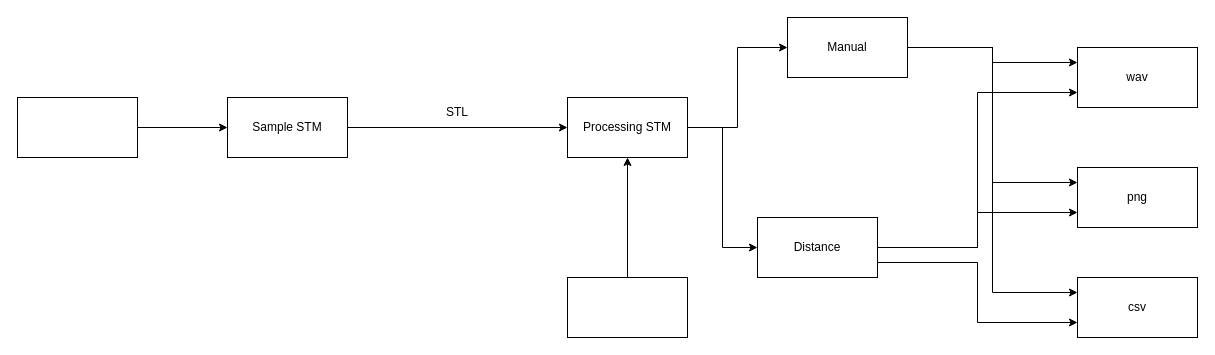
The diagram is 1215 pixels wide and 355 high, and some of its shapes have lost their labels. Each missing label, with the centre of its shape:
Audio Input via Cord: the point at 77,127
Ultrasonic Sensor: the point at 627,307
